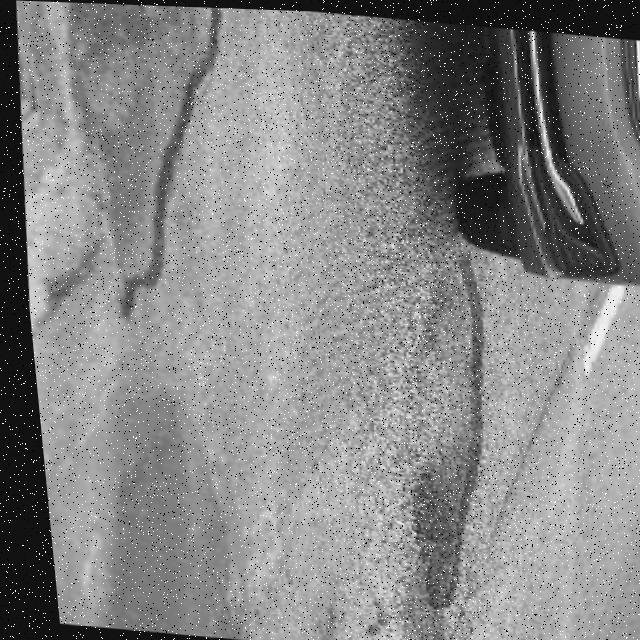pothole: (43, 2, 253, 330), (371, 238, 510, 612)
